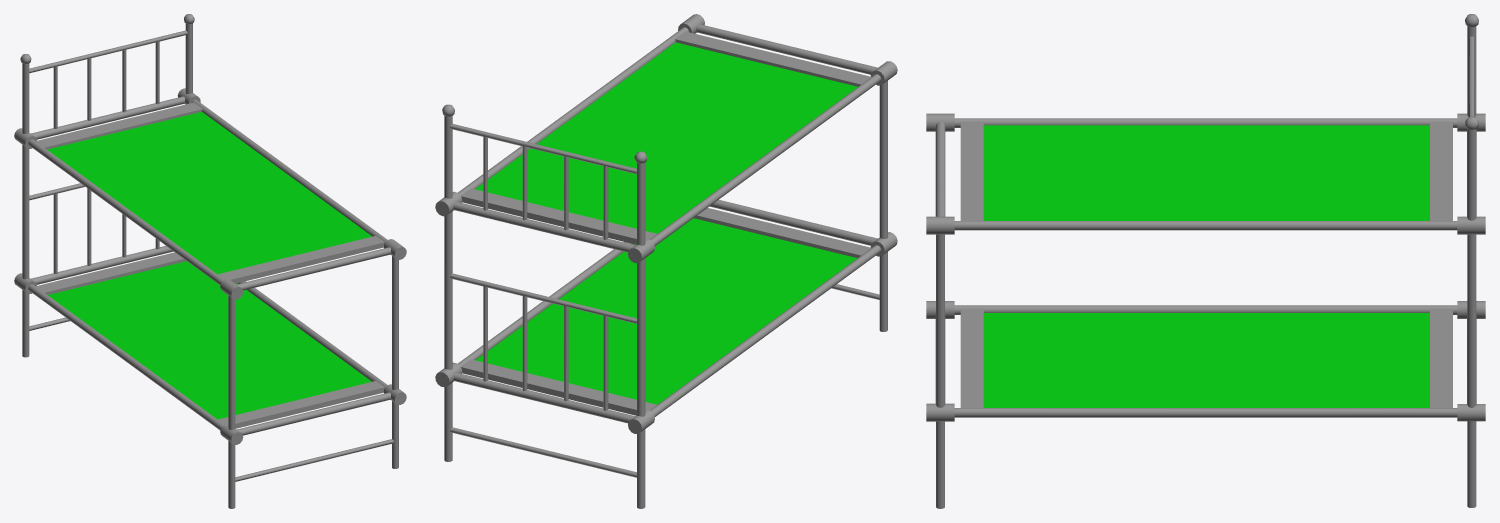
Rendered from bed_04.FBX.
3 renders of one model, left to right at view 1: azimuth 30°, elevation 25°; view 2: azimuth 150°, elevation 25°; view 3: azimuth 270°, elevation 25°, orthographic. The views are drawn at different scales.
Visible parts, largest first — view 1: bed_01_d; view 2: bed_01_d; view 3: bed_01_d.
Part boxes in pixels (box(x1,y1,x2,y2)): bed_01_d: box(14, 14, 406, 508); bed_01_d: box(435, 14, 897, 508); bed_01_d: box(926, 14, 1485, 508).
Bounding box in the file's own units: 121 × 200 × 260.
